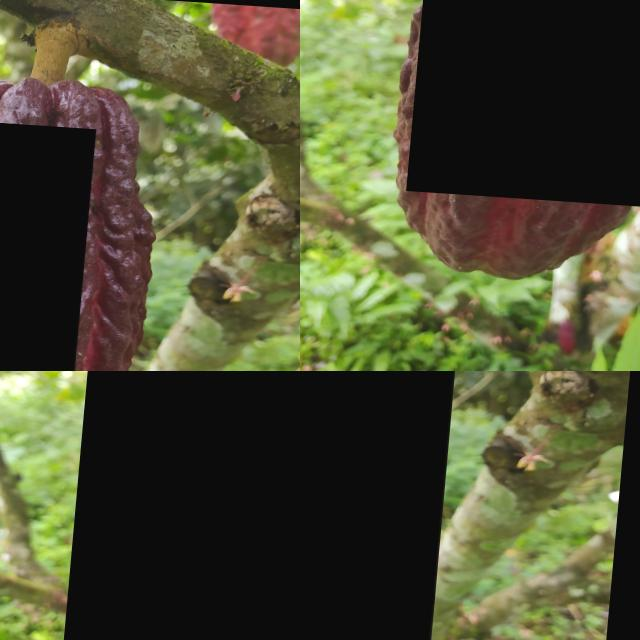Monilia: (69, 371, 300, 640), (414, 0, 640, 206), (0, 114, 98, 371)
Sana: (300, 371, 467, 640)
